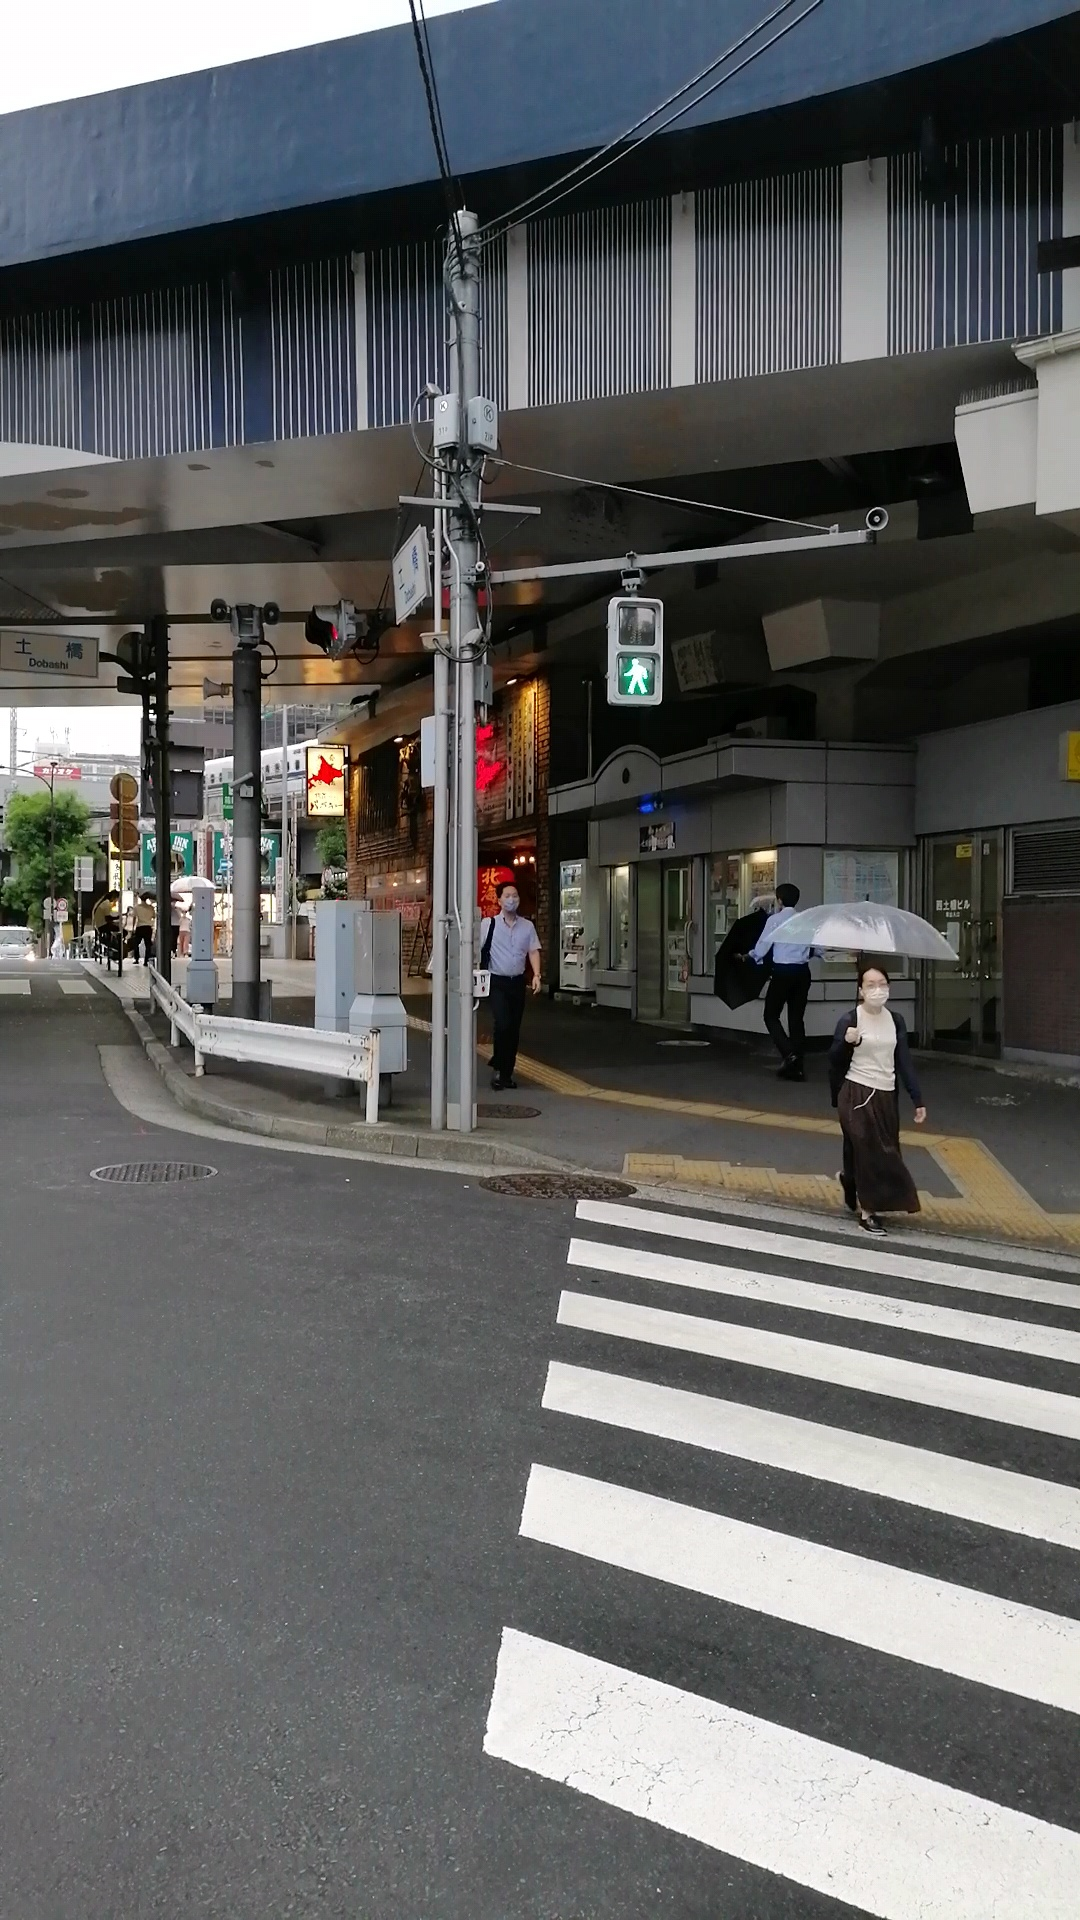green: (604, 593, 665, 705)
